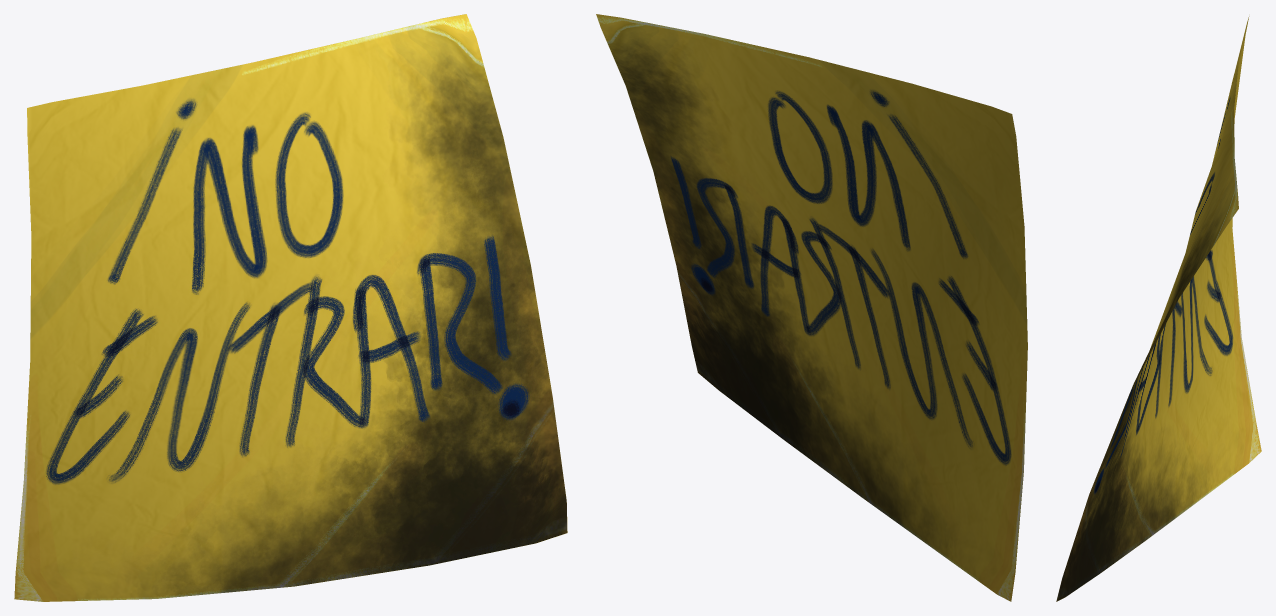
File: postit5.fbx
3 views of the same model, side by side, from view 1: azimuth 30°, elevation 25°; view 2: azimuth 150°, elevation 25°; view 3: azimuth 270°, elevation 25° (orthographic). The views are drawn at different scales.
Visible parts, largest first — view 1: Plane; view 2: Plane; view 3: Plane.
Boxes of the visible parts, x1=… form: Plane: x1=14, y1=14, x2=567, y2=601; Plane: x1=596, y1=14, x2=1027, y2=601; Plane: x1=1056, y1=16, x2=1261, y2=601.
Bounding box in the file's own units: 74.78 × 80.22 × 33.68.
Materials: 1 (1 with a texture image).
